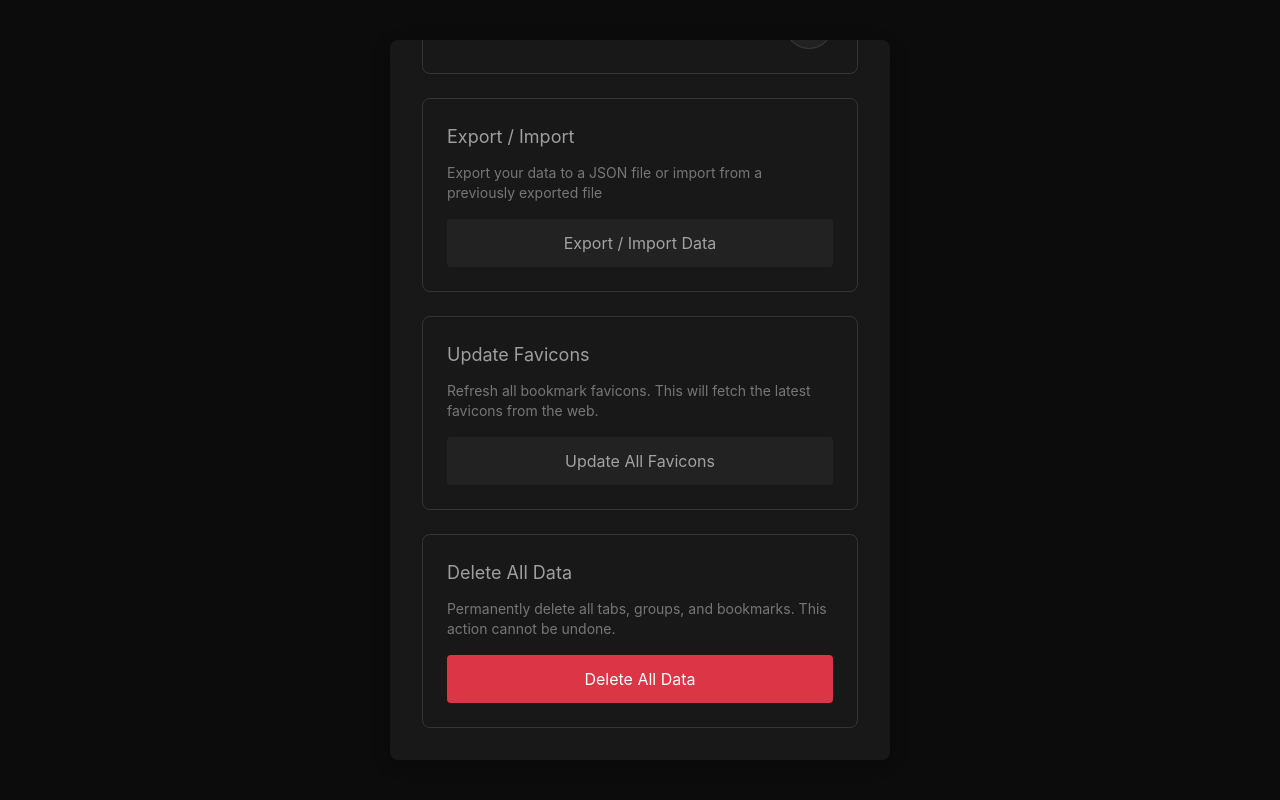
it: SettingsModal › shows delete confirmation when delete all data button is clicked
(page scrolled)
Click the button "Delete All Data" at [640, 679], box [447, 655, 833, 703]
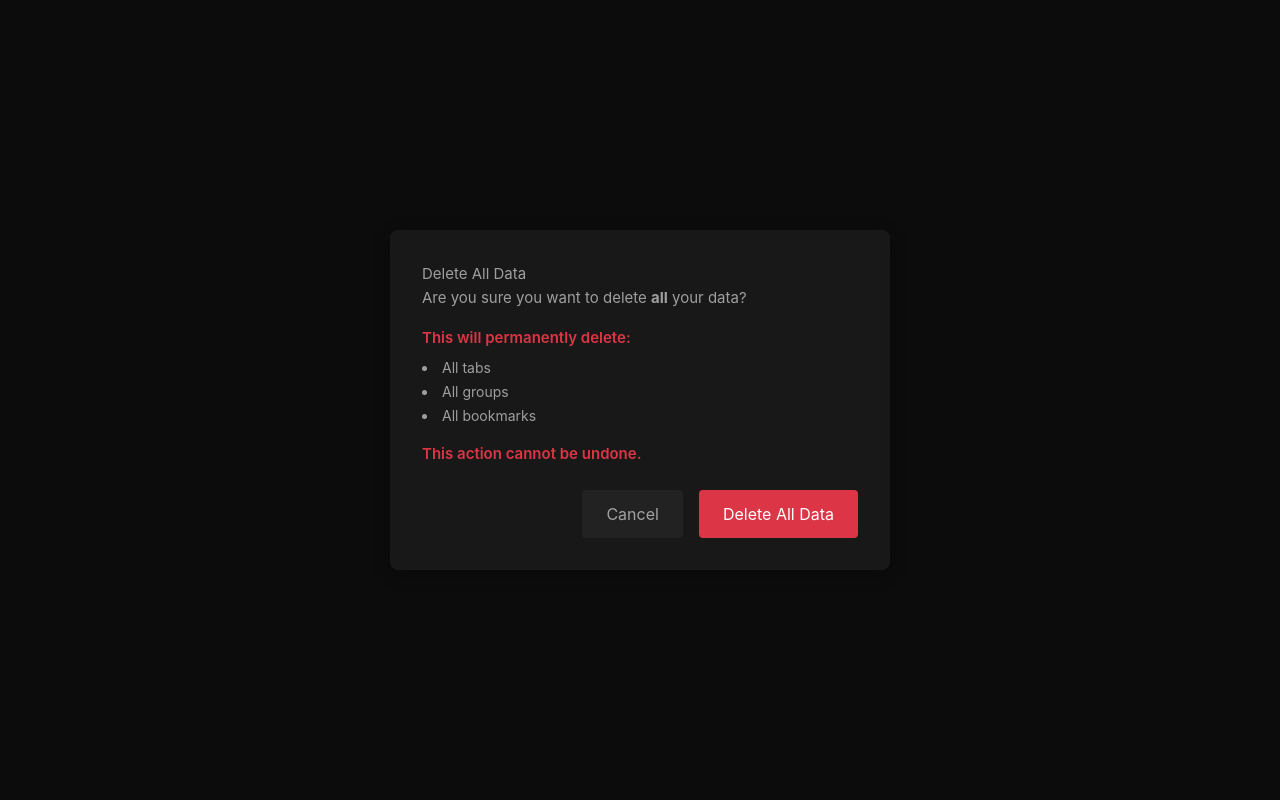
Result: the text "Are you sure you want to delete" is shown at [422, 288, 651, 307]
Result: the text "All groups" is shown at [442, 383, 509, 400]
Result: the text "All bookmarks" is shown at [442, 407, 536, 424]
